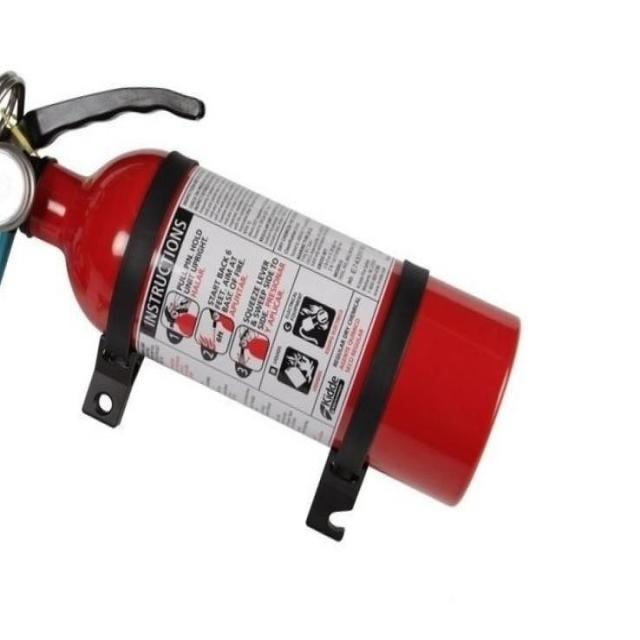fire_extinguisher: (0, 63, 531, 520)
